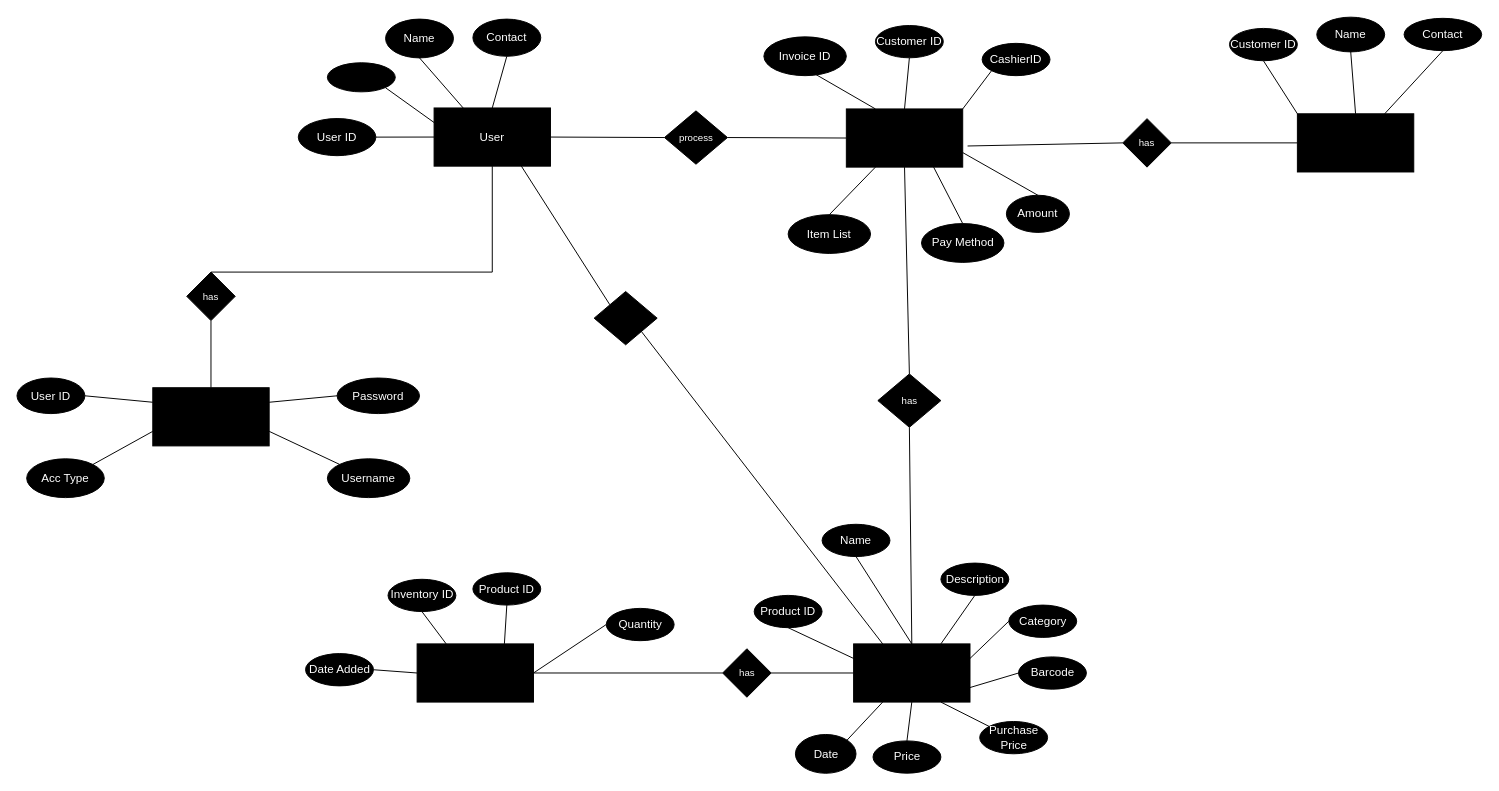
This 1499x791 diagram has some shape labels left out. Each missing label, with the box of its shape:
Customer: (1296, 113, 1414, 172)
edit: (593, 291, 657, 345)
Inventory: (416, 643, 534, 702)
Invoice: (845, 108, 963, 167)
Login: (152, 387, 269, 446)
Product: (853, 643, 970, 702)
Role: (326, 62, 395, 92)
